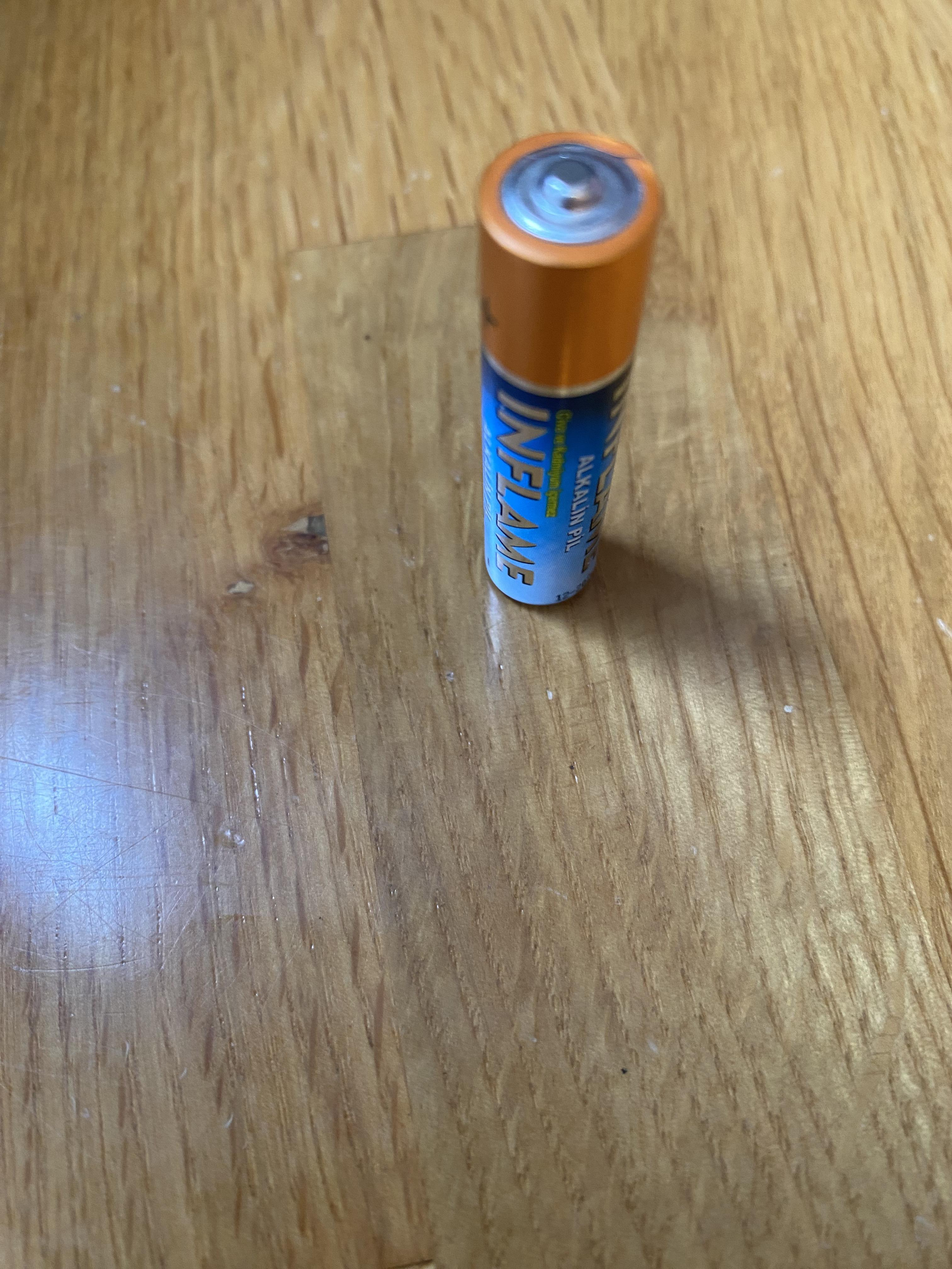AAA: (474, 129, 663, 606)
